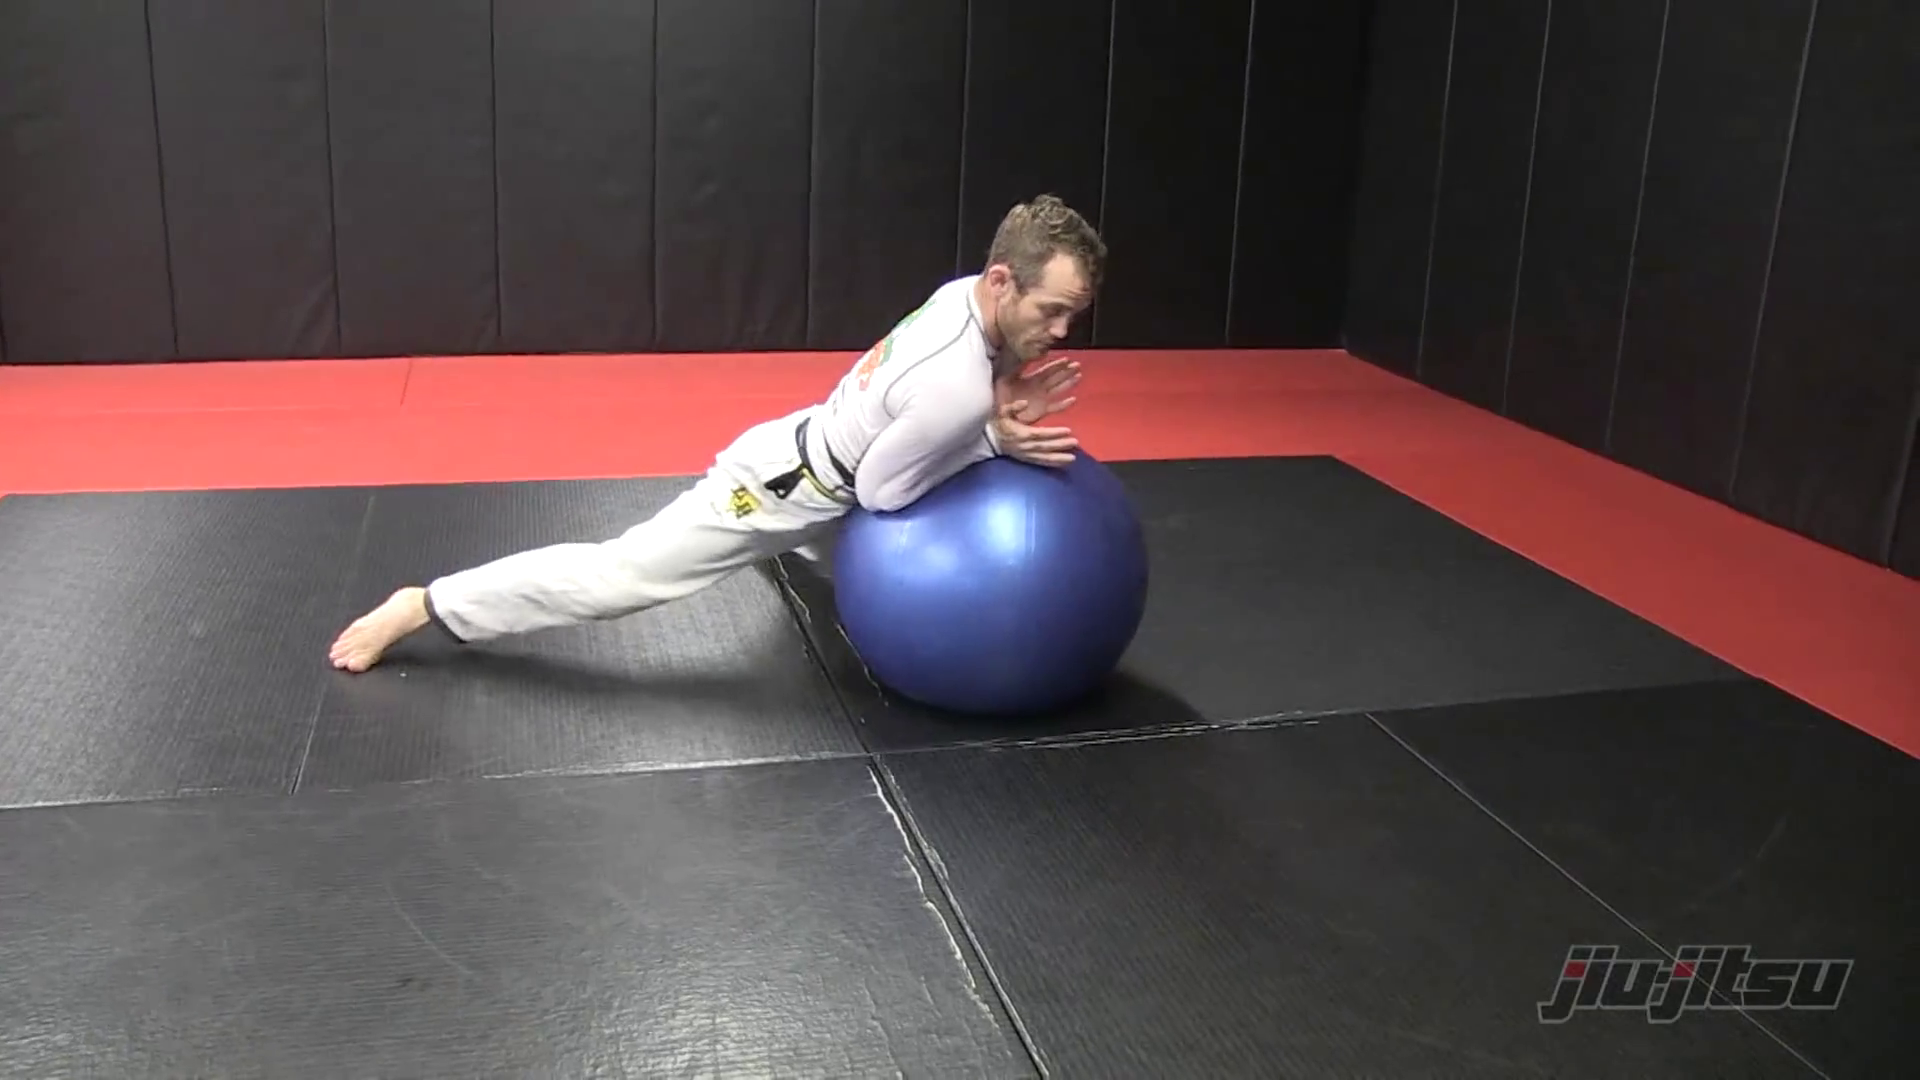yogaball: (814, 419, 1203, 735)
